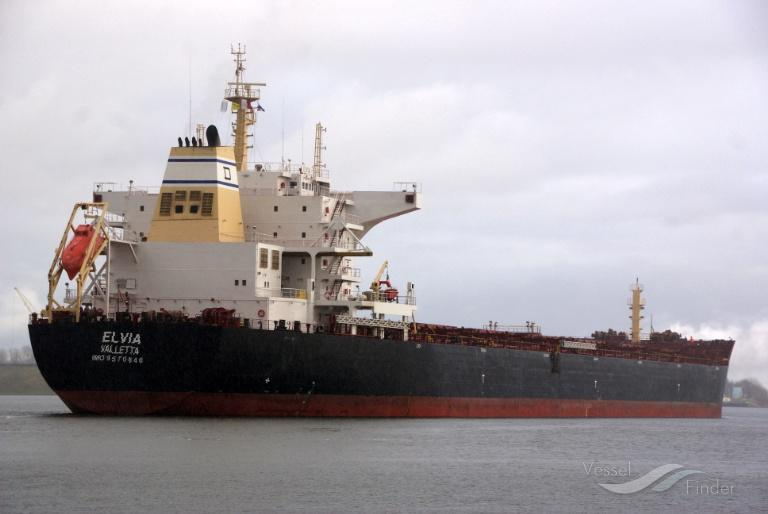OCR: (88, 322, 162, 374)
